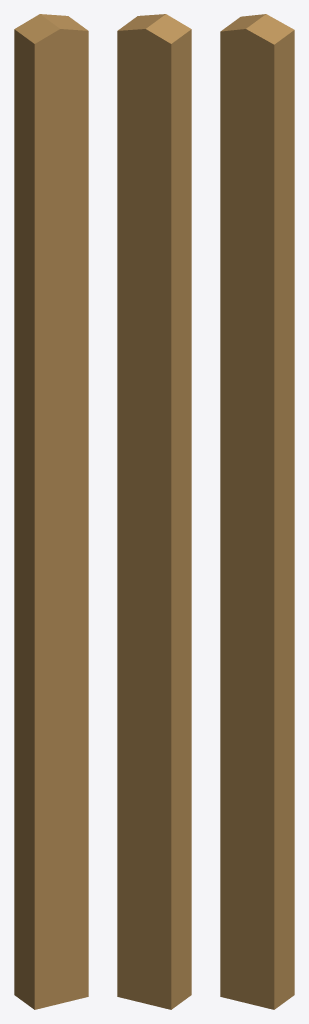
The picture shows the model from 3 angles, left to right: view 1: azimuth 30°, elevation 25°; view 2: azimuth 150°, elevation 25°; view 3: azimuth 330°, elevation 25°; orthographic projection.
Visible parts, largest first — view 1: L4-6-S4-3E6-M04; view 2: L4-6-S4-3E6-M04; view 3: L4-6-S4-3E6-M04.
Part boxes in pixels (left/top/right/bottom): L4-6-S4-3E6-M04: left=14, top=14, right=88, bottom=1009; L4-6-S4-3E6-M04: left=117, top=14, right=191, bottom=1009; L4-6-S4-3E6-M04: left=220, top=14, right=294, bottom=1009.
Size of the model in its own units: 0.0687 by 1.19 by 0.045.
